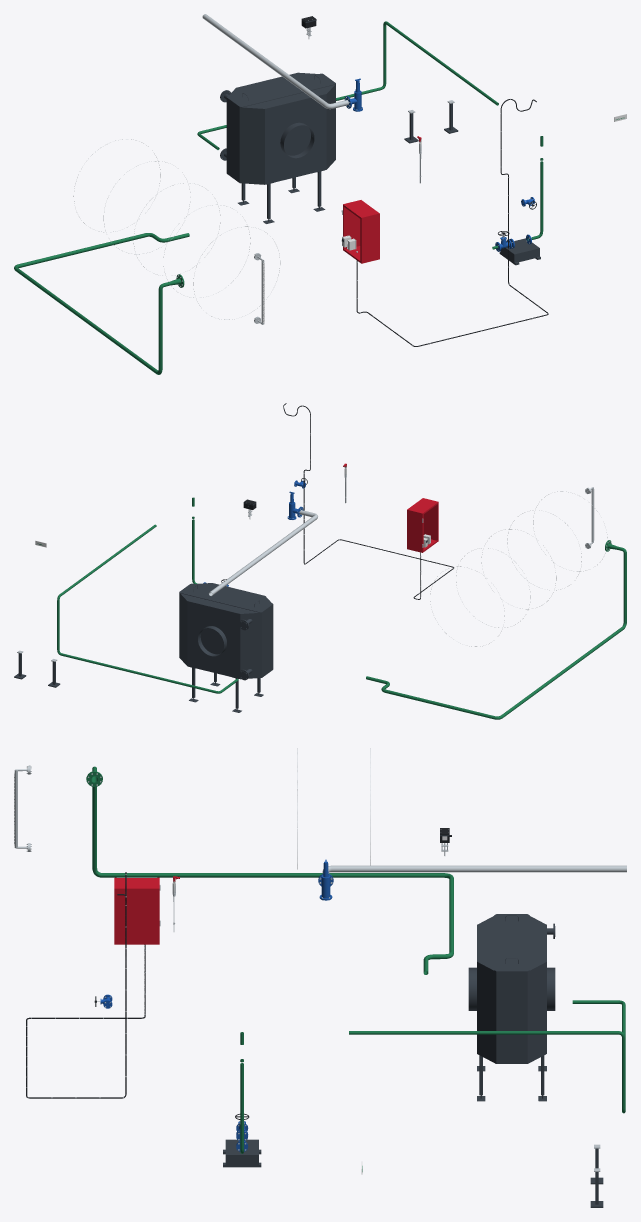
3 renders of one model, top to bottom at view 1: azimuth 30°, elevation 25°; view 2: azimuth 150°, elevation 25°; view 3: azimuth 270°, elevation 25°, orthographic. The views are drawn at different scales.
Visible parts, largest first — view 1: EQS2-5000 CAD 0, EQS2-5000 CAD 3, deaerator_feed / green, EQS2-5000 CAD 1, control_cabinet / control_cabinet_0.npz, to_economizer / green, safety_vent_2 / steel, wiring_pressure_switch_2 / black, pump_branch_1 / dark, deaerator_details / steel; view 2: EQS2-5000 CAD 0, EQS2-5000 CAD 3, deaerator_feed / green, EQS2-5000 CAD 2, control_cabinet / control_cabinet_0.npz, to_economizer / green, safety_vent_2 / steel, wiring_pressure_switch_2 / black, deaerator_details / steel; view 3: EQS2-5000 CAD 3, control_cabinet / control_cabinet_0.npz, deaerator_feed / green, safety_vent_2 / steel, to_economizer / green, EQS2-5000 CAD 0, wiring_pressure_switch_2 / black, pump_branch_1 / dark, deaerator_details / steel.
Boxes of the visible parts, box(x1,y1,x2,y2) form: EQS2-5000 CAD 0: box(238, 94, 326, 223); EQS2-5000 CAD 3: box(226, 72, 335, 182); deaerator_feed / green: box(14, 233, 189, 374); EQS2-5000 CAD 1: box(239, 107, 264, 184); control_cabinet / control_cabinet_0.npz: box(341, 200, 379, 263); to_economizer / green: box(197, 21, 498, 149); safety_vent_2 / steel: box(202, 14, 348, 109); wiring_pressure_switch_2 / black: box(356, 99, 548, 346); pump_branch_1 / dark: box(499, 238, 540, 265); deaerator_details / steel: box(73, 139, 280, 324); EQS2-5000 CAD 0: box(187, 601, 263, 712); EQS2-5000 CAD 3: box(179, 583, 273, 677); deaerator_feed / green: box(366, 540, 626, 719); EQS2-5000 CAD 2: box(239, 612, 261, 680); control_cabinet / control_cabinet_0.npz: box(407, 498, 438, 552); to_economizer / green: box(57, 524, 238, 693); safety_vent_2 / steel: box(208, 510, 317, 596); wiring_pressure_switch_2 / black: box(283, 403, 453, 599); deaerator_details / steel: box(430, 487, 607, 646); EQS2-5000 CAD 3: box(477, 914, 546, 1063); control_cabinet / control_cabinet_0.npz: box(114, 877, 160, 944); deaerator_feed / green: box(86, 766, 453, 974); safety_vent_2 / steel: box(322, 865, 626, 873); to_economizer / green: box(349, 1000, 625, 1113); EQS2-5000 CAD 0: box(468, 967, 555, 1101); wiring_pressure_switch_2 / black: box(26, 872, 145, 1098); pump_branch_1 / dark: box(223, 1139, 261, 1167); deaerator_details / steel: box(14, 748, 370, 869).
Bounding box in the file's own units: 9.48 × 3.27 × 7.17.
